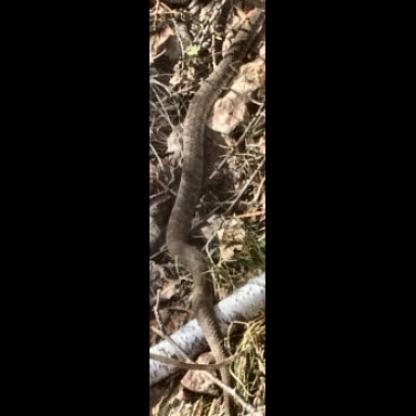Snake: (158, 28, 268, 390)
